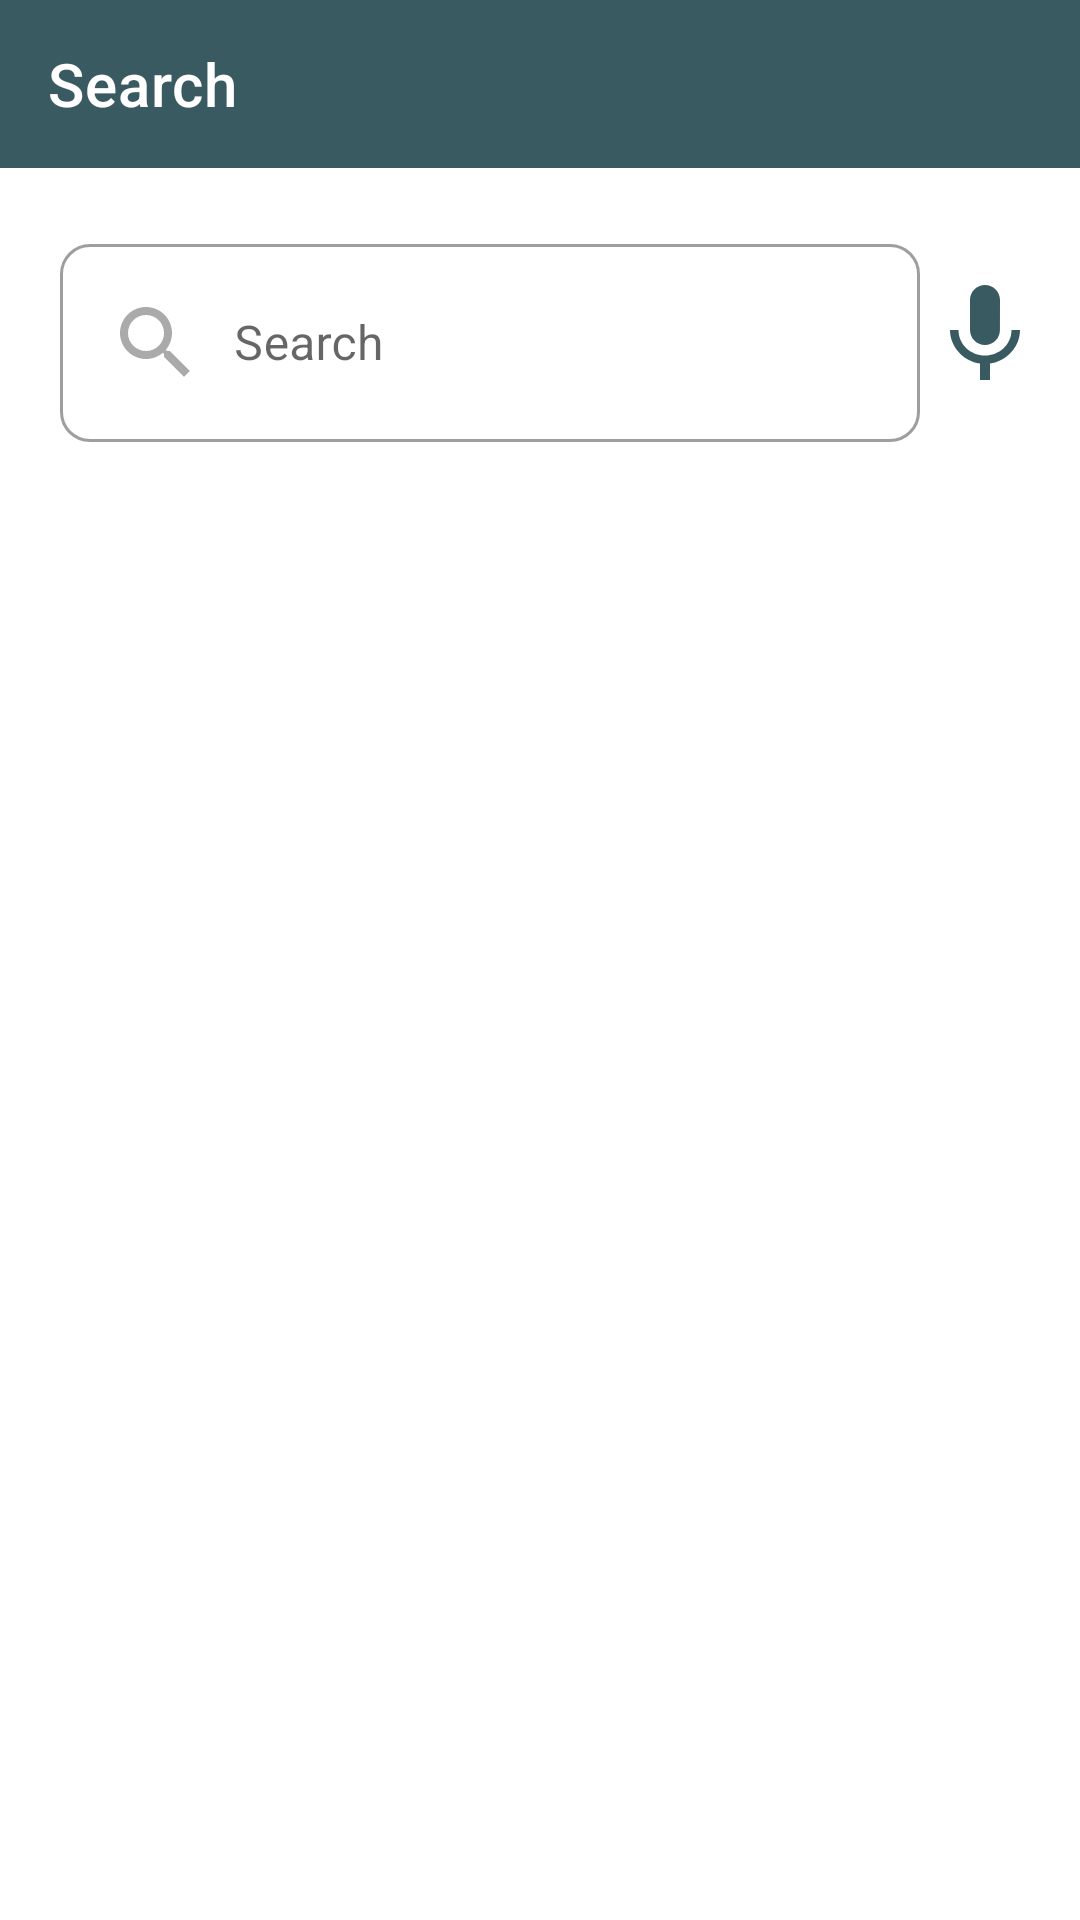

Locate icon controls on the screen. Image size 1080w x 1920h, boxes as (x1, y1, x2, y2).
mic: (950, 285, 1020, 380)
